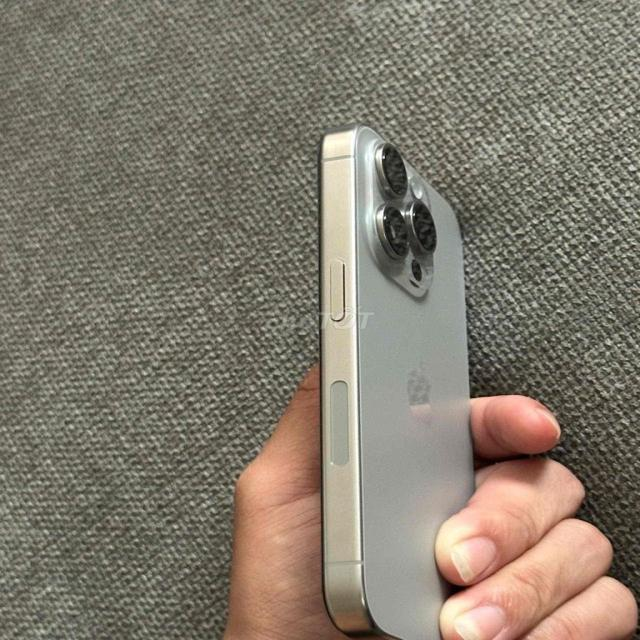gen_15: (283, 113, 507, 627)
